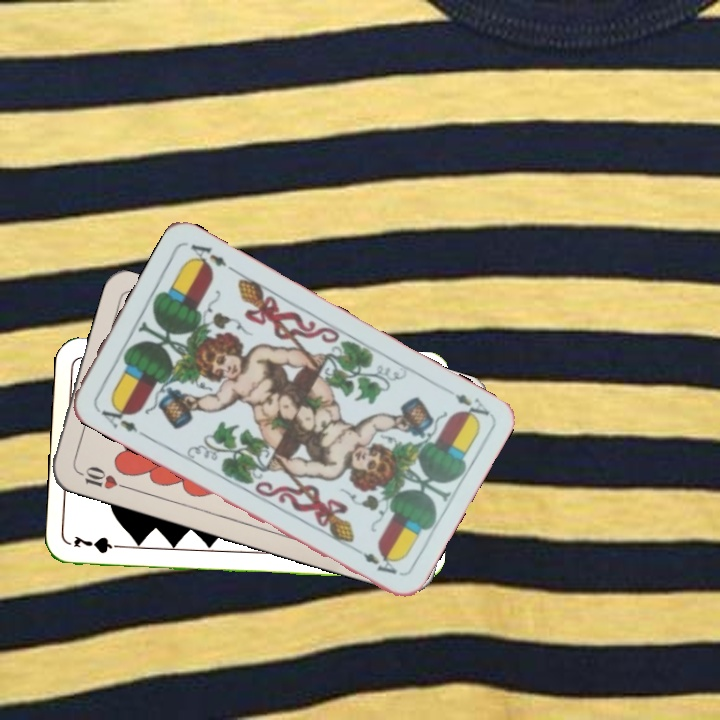EA: (92, 399, 147, 439), (450, 389, 493, 425)
G7: (70, 531, 129, 556)
H10: (73, 462, 130, 492)
